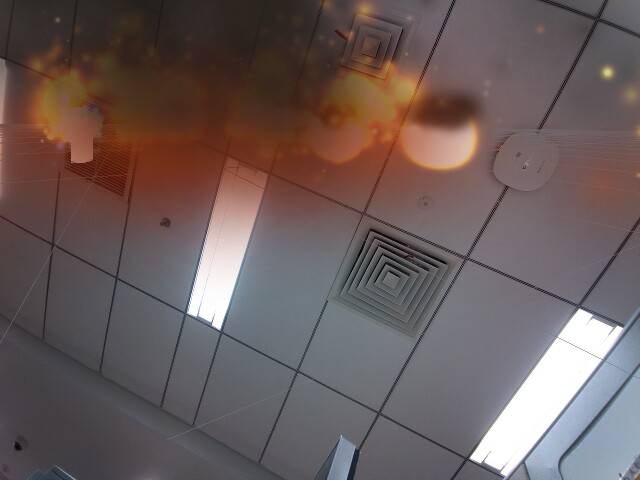fire: (402, 97, 485, 176), (312, 114, 369, 163)
